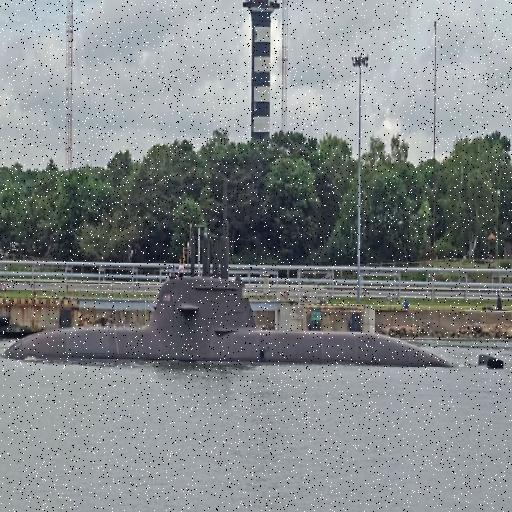submarine: (4, 178, 507, 362)
